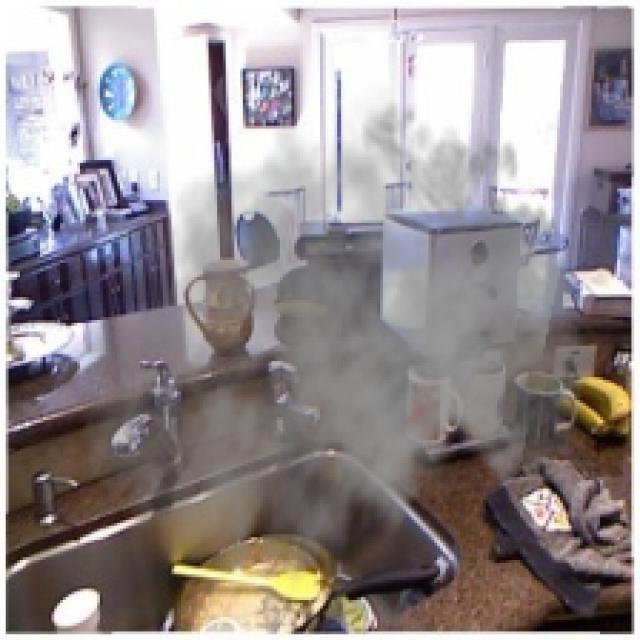Smoke: (80, 80, 600, 609)
